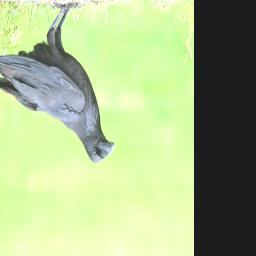Crow: (0, 1, 116, 165)
